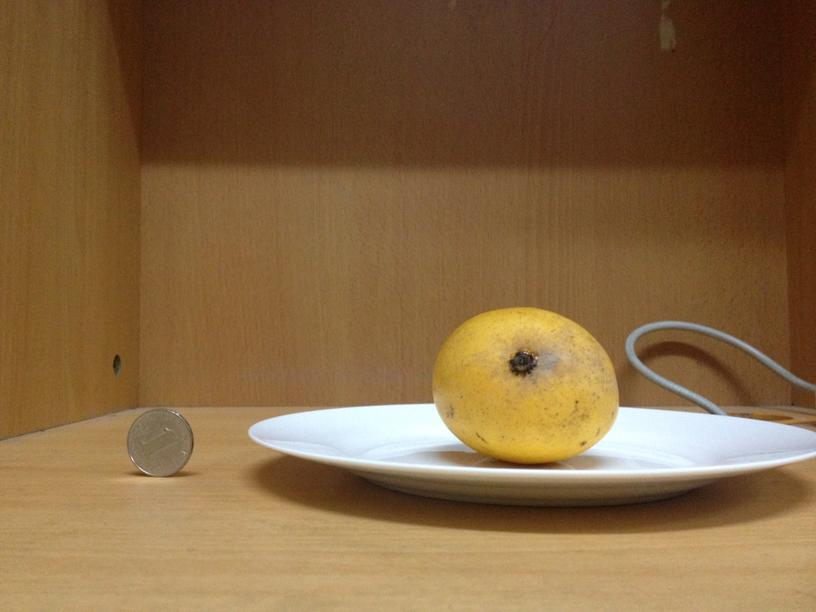coin: (125, 410, 193, 478)
mango: (435, 307, 620, 462)
